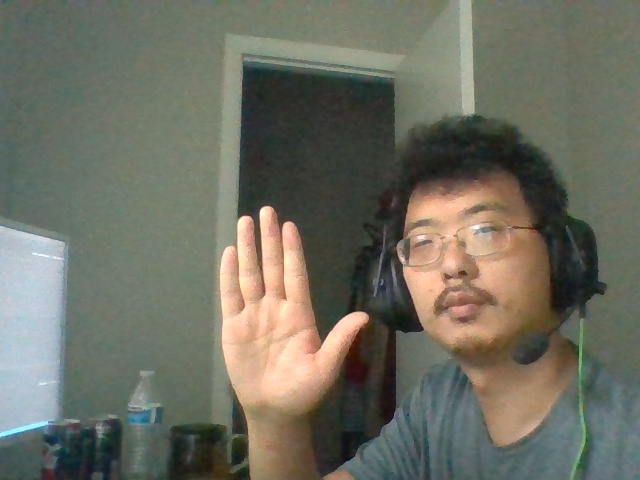ThankYou: (219, 205, 370, 414)
